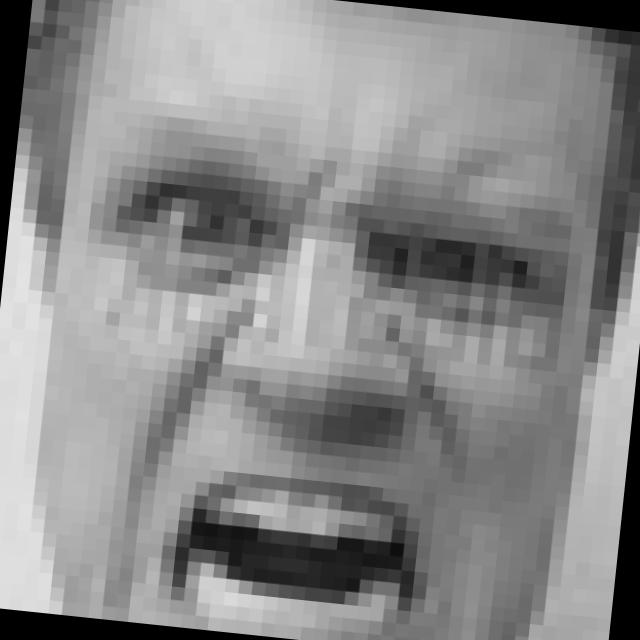angry: (64, 153, 561, 640)
